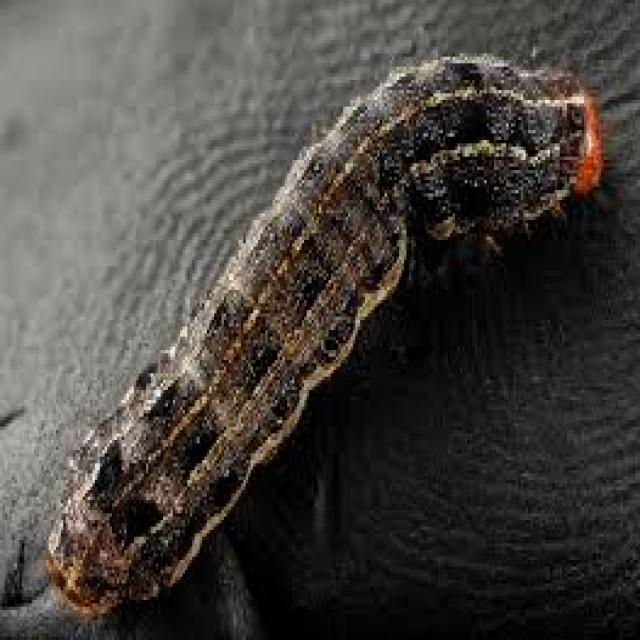Army Worm: (39, 42, 609, 626)
